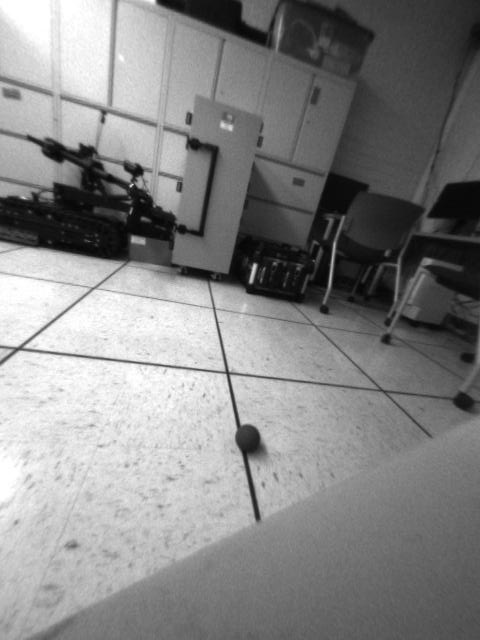dogtoy: (232, 416, 267, 461)
